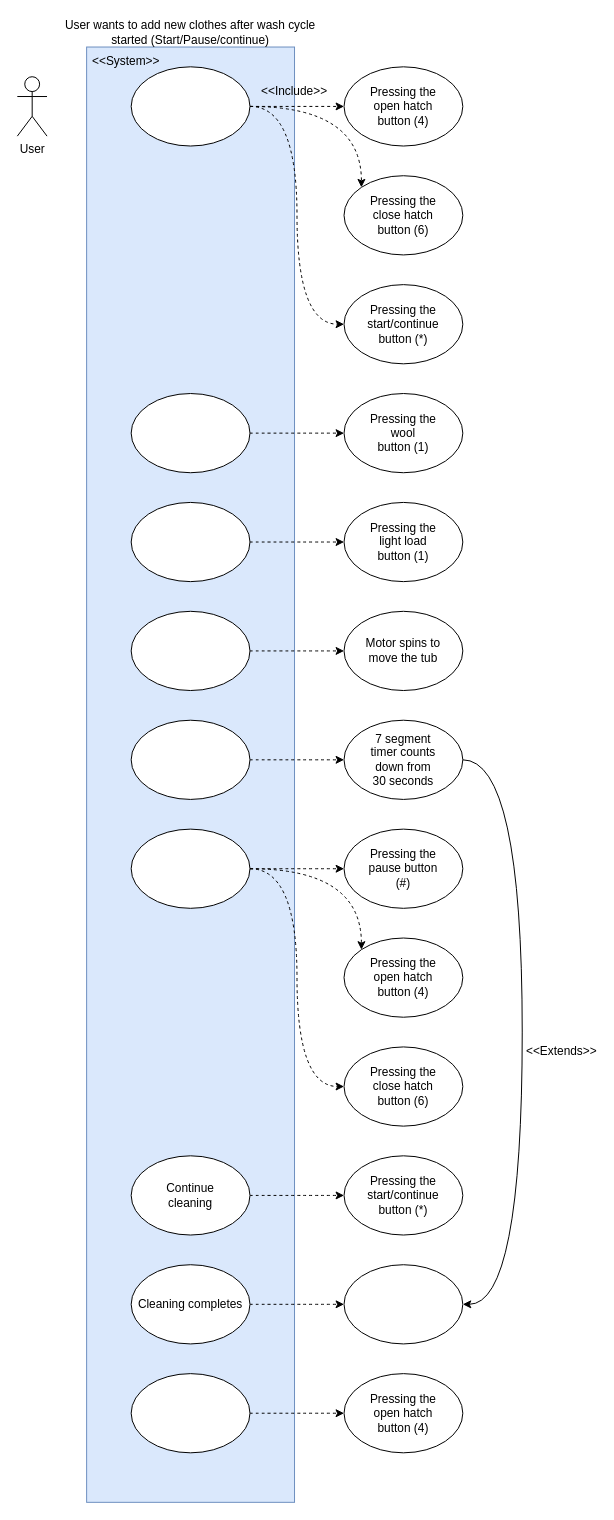
This 614x1520 diagram has some shape labels left out. Each missing label, with the centre of its shape:
"7 segment timer reaches 0 second" goes at point 403,1304.
"Checks how long left till cleaning is complete" goes at point 190,759.
"Cleaning begins" goes at point 190,650.
"Open hatch to take out clothes" goes at point 190,1413.
"Pause the machine to put extra clothes" goes at point 190,868.
"Put clothes in" goes at point 190,106.
"Select the weight load (e.g. light weight)" goes at point 190,541.
"Select type of material (e.g. wool)" goes at point 190,433.
